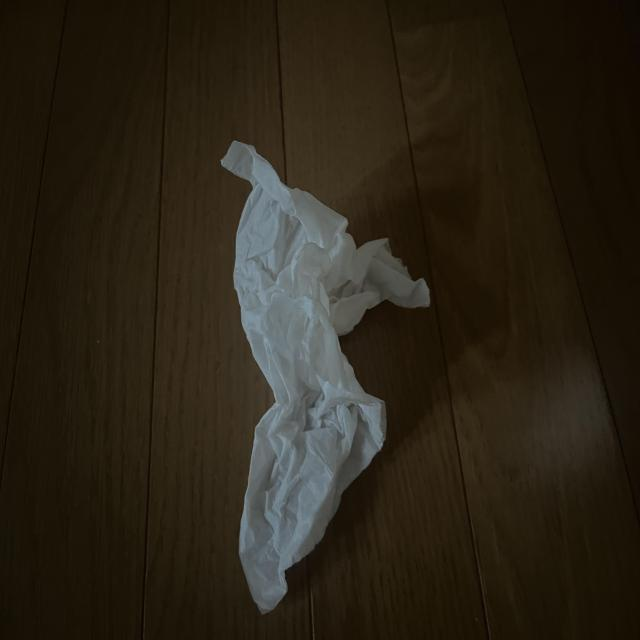衛生紙: (214, 139, 433, 617)
